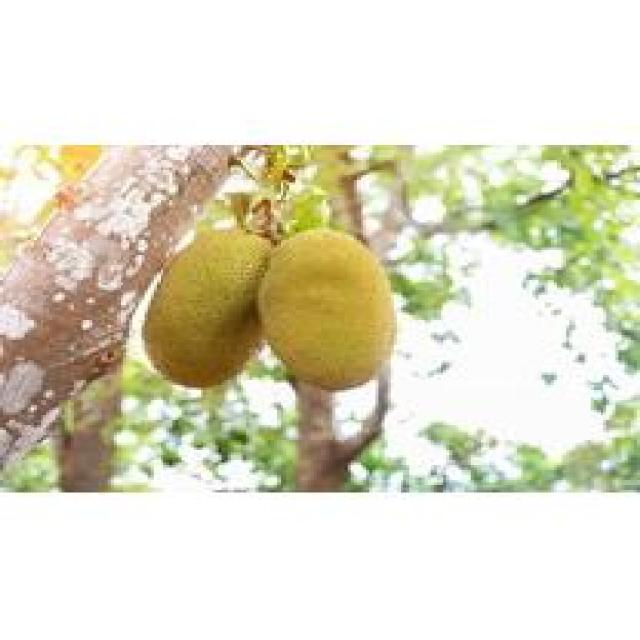Fruit: (123, 215, 323, 413), (237, 215, 412, 415)
